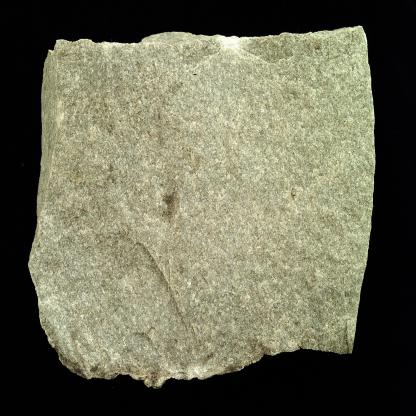Sedimentary_Limestone: (26, 14, 378, 391)
